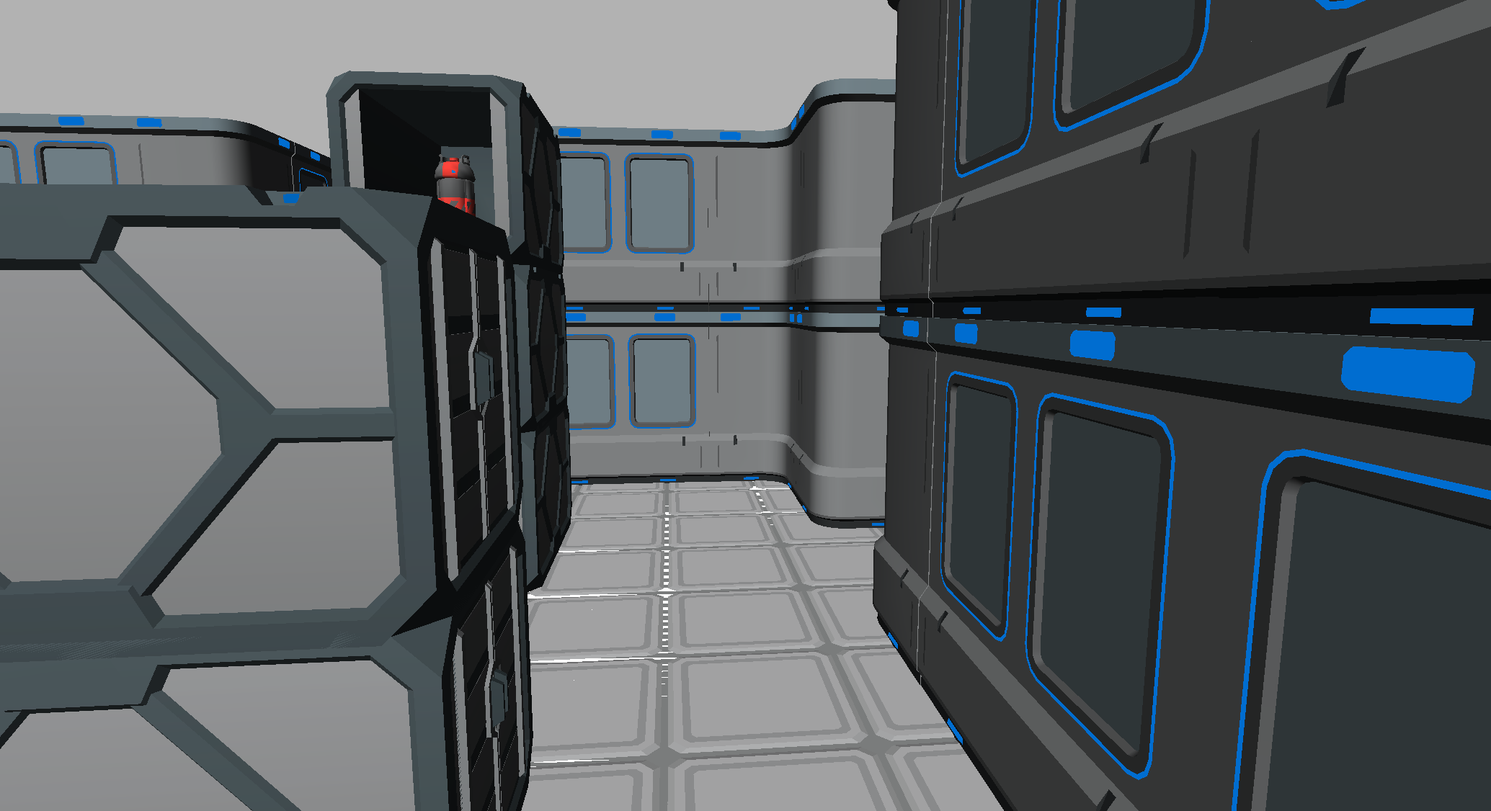red_barrel: (435, 156, 474, 214)
